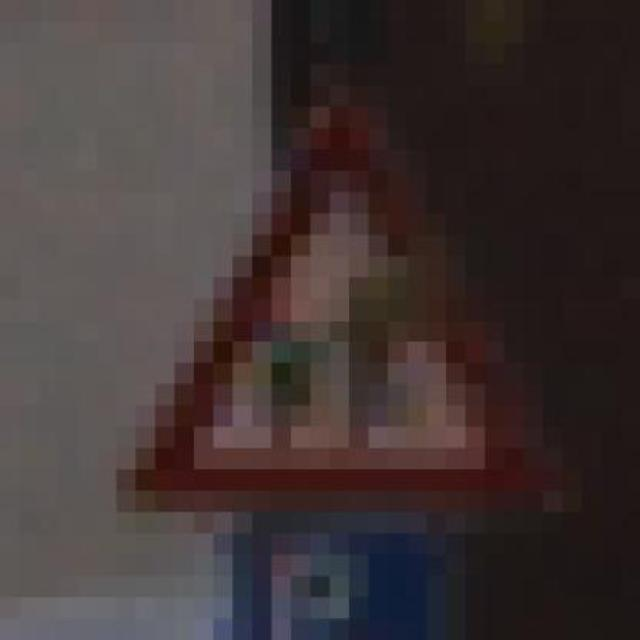Beware of children: (97, 64, 543, 533)
